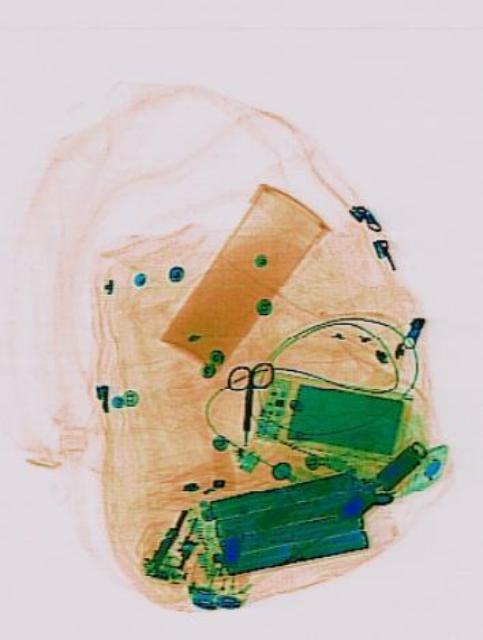Scissors: (219, 358, 272, 446)
